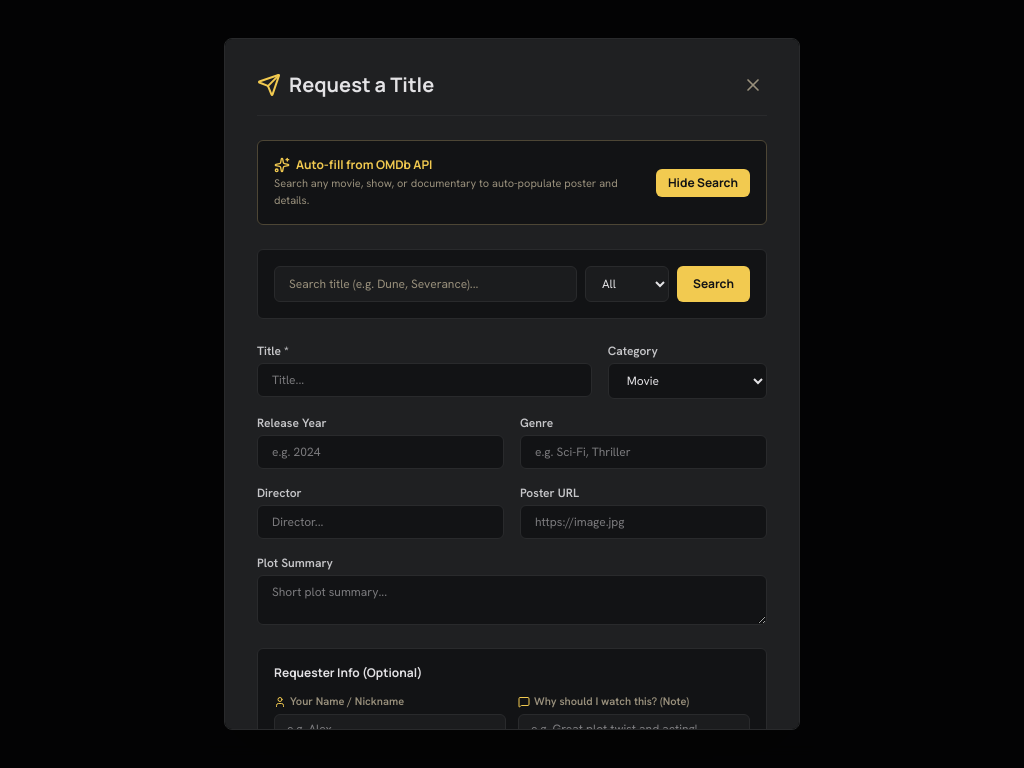
Scenario: RequestMediaModal › displays error message when createWatchRequestAction fails
The width and height of the screenshot is (1024, 768).
Type "Dune" into the field with placeholder "Title..." at (424, 380), box [257,363,592,397]
(page scrolled)
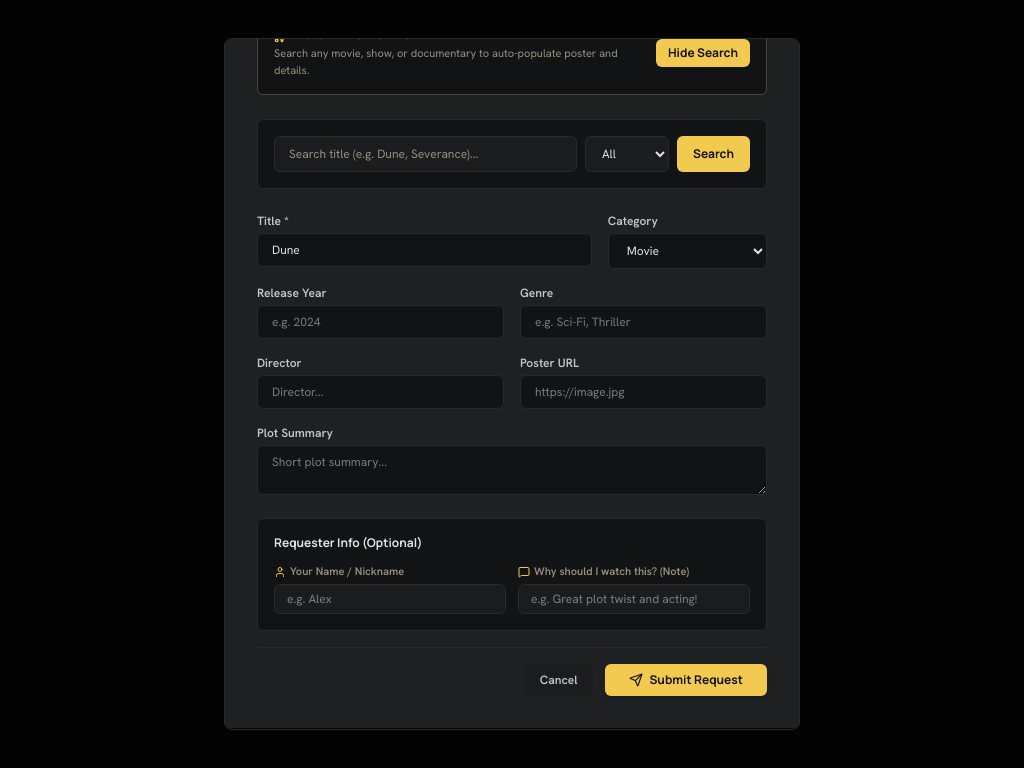
Submit the form named "submit request", box [257,213,767,696]
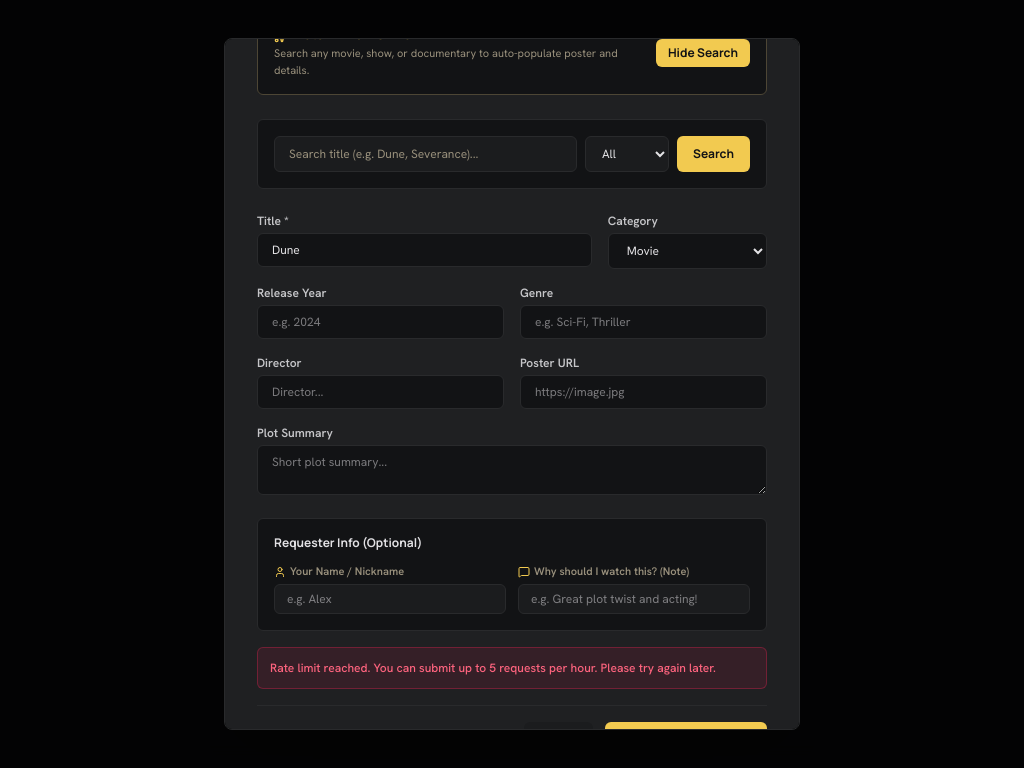
Expected: the text "Rate limit reached" is shown, [270,660,716,676]
